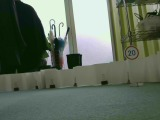speed_20: (123, 45, 139, 61)
